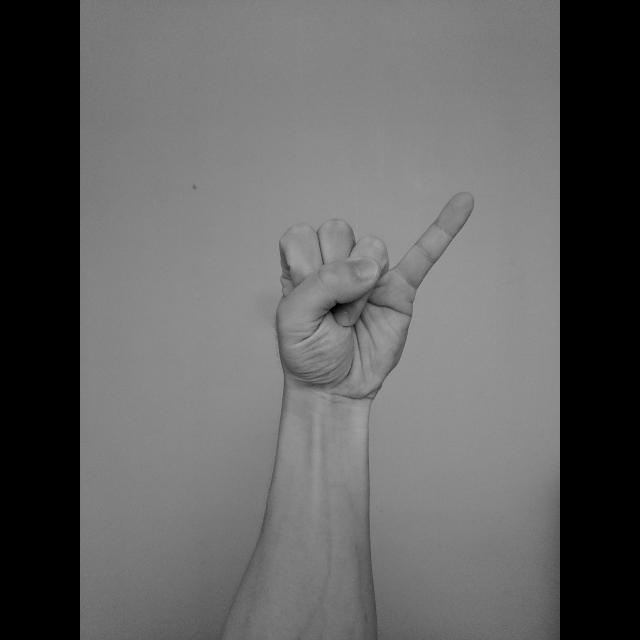I: (270, 188, 478, 400)
